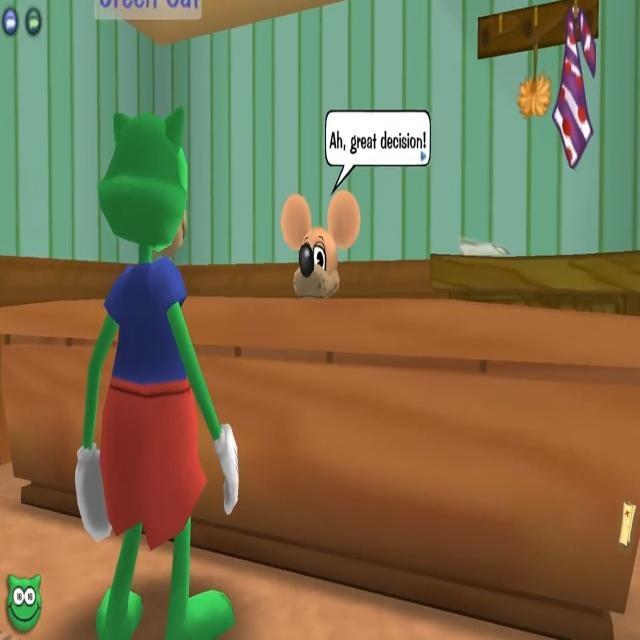npc: (280, 192, 360, 301)
